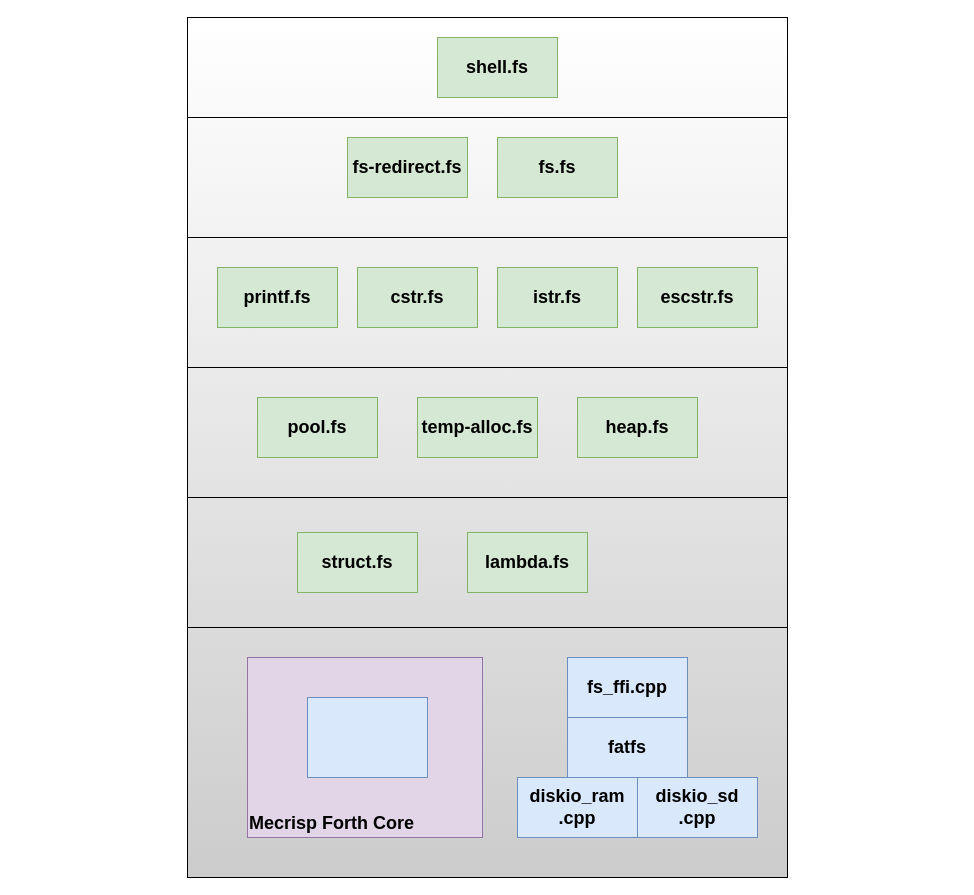
The diagram is 974 pixels wide and 895 high, and some of its shapes have lost their labels. Here are the shapes that lost their labels. From the top down, the box of each, then its label:
(186, 16, 788, 118): Forth Shell
(186, 116, 788, 238): Forth Filesystem Access
(186, 236, 788, 368): String Handling
(186, 366, 788, 498): Resource Management
(186, 496, 788, 628): Foundation
(306, 696, 428, 778): Exception Handling try / ?raise
(186, 626, 788, 878): BoxKern (incl. Mecrisp Forth Core)
